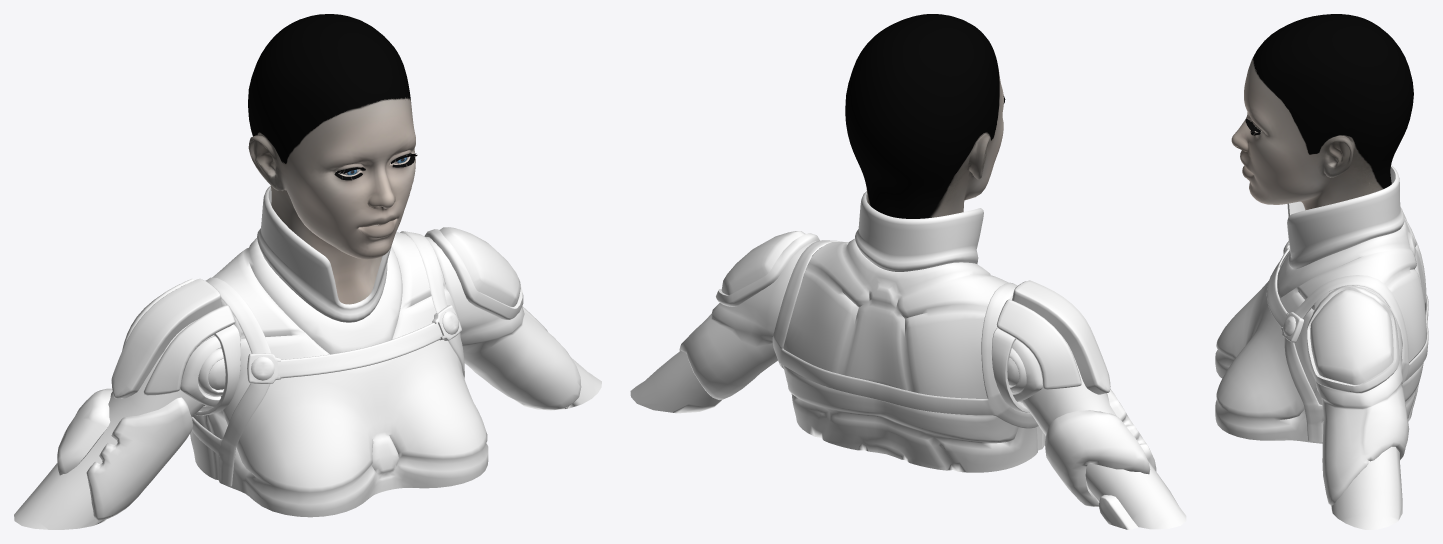
Rendered from ruby_head.obj.
3 renders of one model, left to right at view 1: azimuth 30°, elevation 25°; view 2: azimuth 150°, elevation 25°; view 3: azimuth 270°, elevation 25°, orthographic. The views are drawn at different scales.
Parts seen in each view (by area): view 1: Ruby; view 2: Ruby; view 3: Ruby.
Part boxes in pixels (left/top/right/bottom): Ruby: left=14, top=14, right=601, bottom=529; Ruby: left=630, top=14, right=1186, bottom=529; Ruby: left=1215, top=14, right=1428, bottom=529.
Bounding box in the file's own units: 294 × 214 × 107.
1 material, 1 textured.
